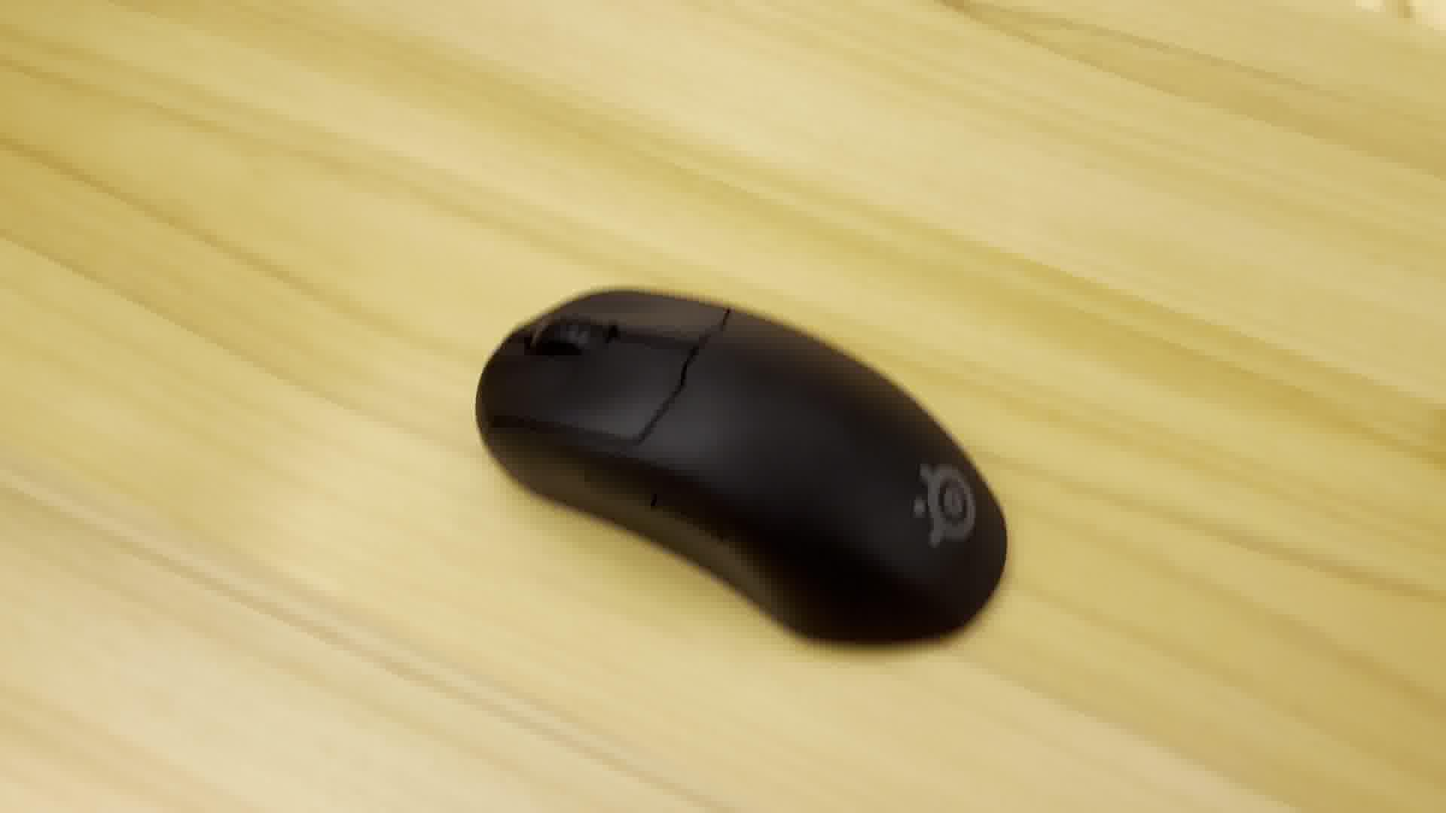mouse: (467, 265, 1024, 663)
